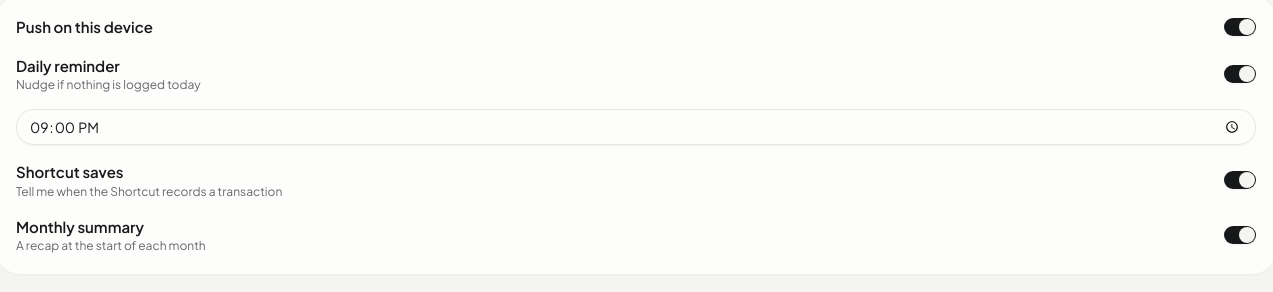
it: NotificationSettings › turns push off with the switch
Click the switch named "Push on this device".
click(1240, 27)  # box [1224,18,1256,36]
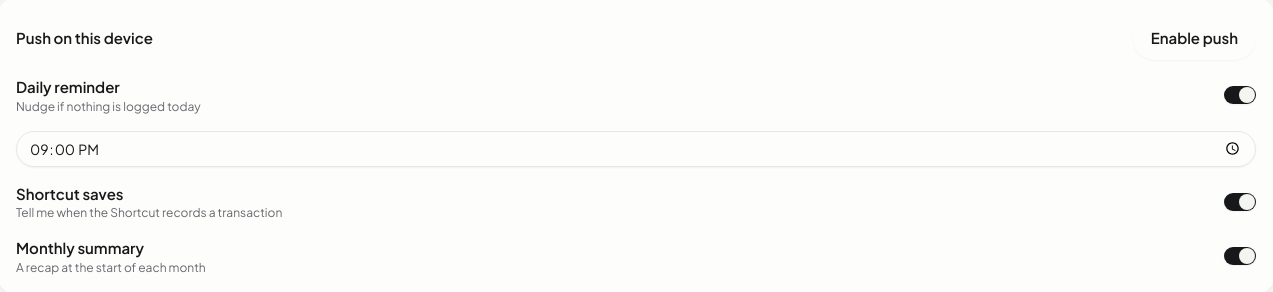
Check: the button "Enable push" is shown, box [1133,16,1256,60]
